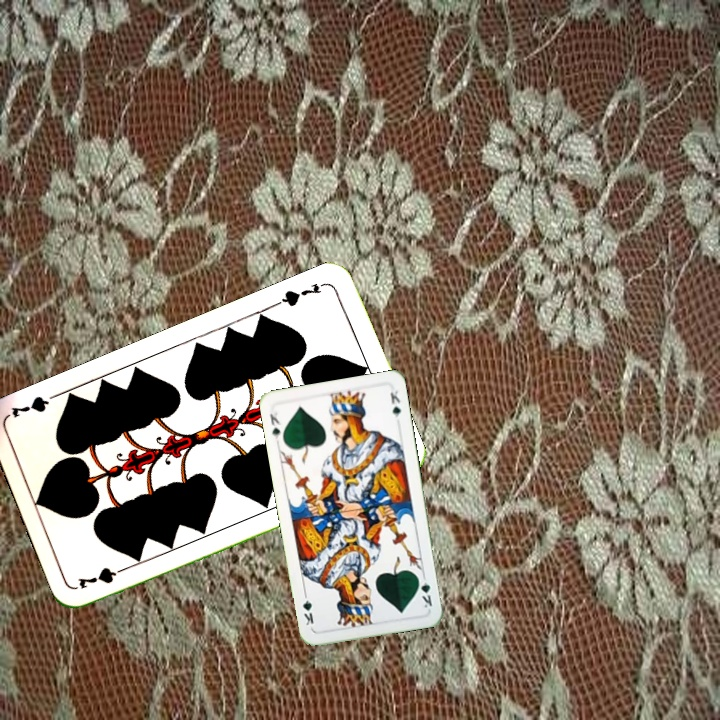G7: (73, 561, 133, 592), (272, 278, 329, 309)
GK: (414, 571, 435, 610), (266, 408, 283, 441)
